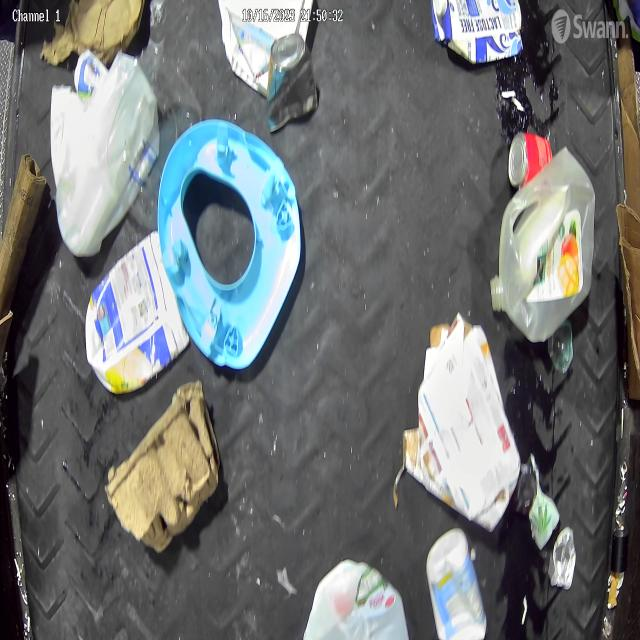can: (266, 36, 320, 134), (507, 132, 554, 194)
milk_jug: (55, 50, 163, 262), (490, 144, 597, 346), (300, 555, 410, 640)
